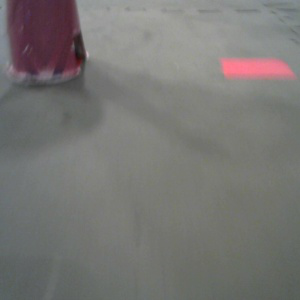middle: (1, 1, 90, 86)
